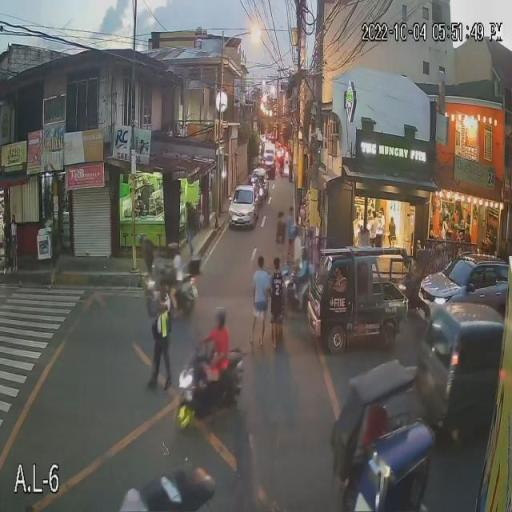helmet: (211, 302, 230, 326), (167, 241, 184, 257)
motorcycle: (173, 343, 246, 434), (138, 254, 204, 317)
rider: (202, 327, 230, 409), (166, 253, 188, 317)
